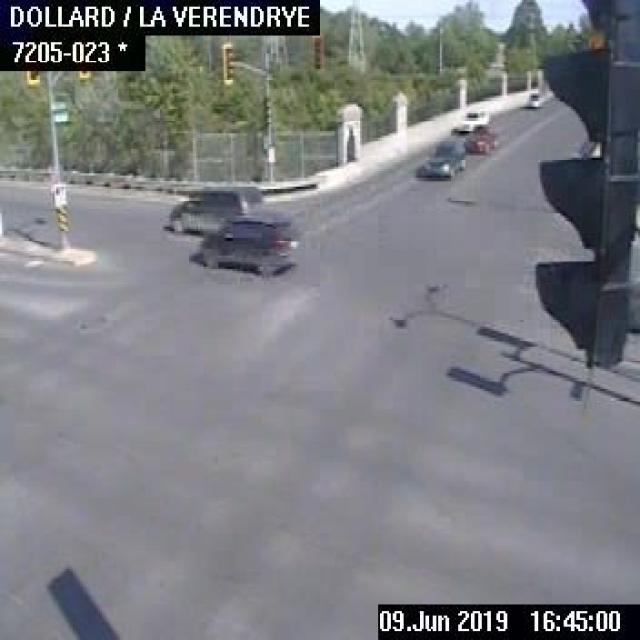vehicle: (198, 214, 300, 276), (165, 184, 262, 233), (418, 142, 465, 176), (450, 105, 490, 133), (462, 122, 497, 154), (522, 86, 541, 106)
